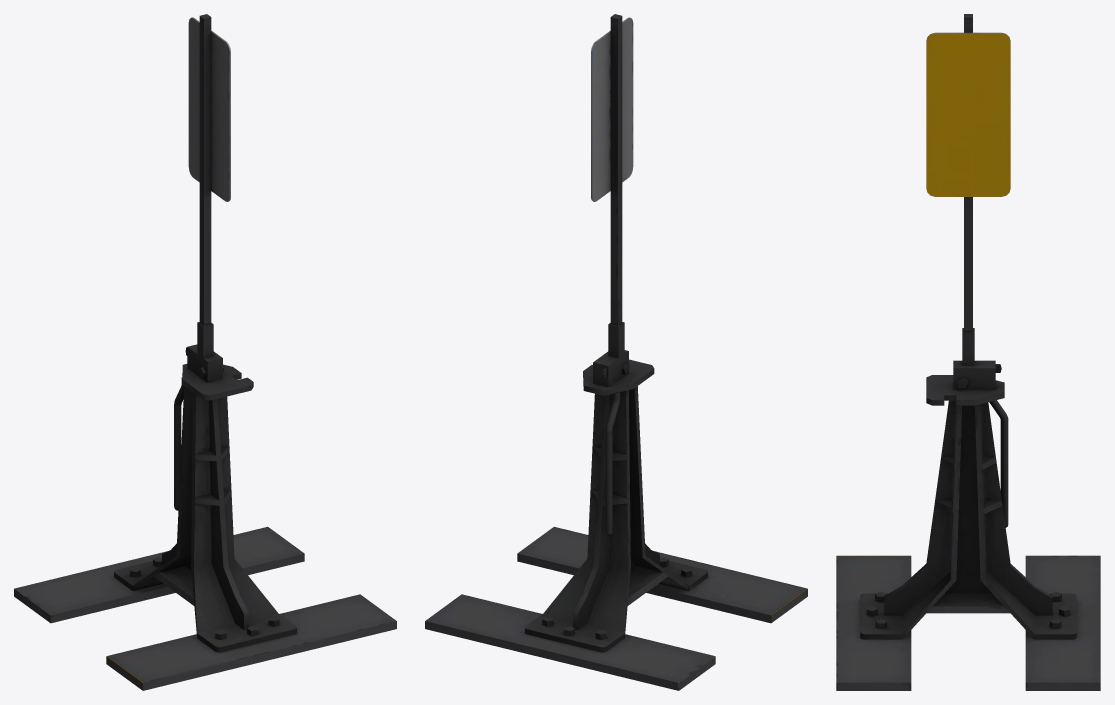
The picture shows the model from 3 angles, left to right: view 1: azimuth 30°, elevation 25°; view 2: azimuth 150°, elevation 25°; view 3: azimuth 270°, elevation 25°; orthographic projection. The views are drawn at different scales.
Visible parts, largest first — view 1: body0_model0_lod0_mesh0; view 2: body0_model0_lod0_mesh0; view 3: body0_model0_lod0_mesh0.
Boxes of the visible parts, x1,y1,x2,y2 form: body0_model0_lod0_mesh0: [14, 14, 396, 690]; body0_model0_lod0_mesh0: [425, 14, 807, 690]; body0_model0_lod0_mesh0: [836, 14, 1100, 690].
Size of the model in its own units: 50 by 112 by 44.
Materials: 1 (1 with a texture image).
